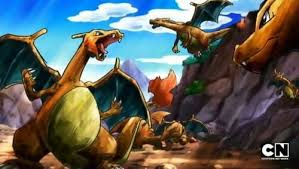charizard: (2, 23, 148, 169), (149, 1, 246, 59), (230, 4, 299, 76), (158, 115, 209, 149), (269, 69, 299, 113)
